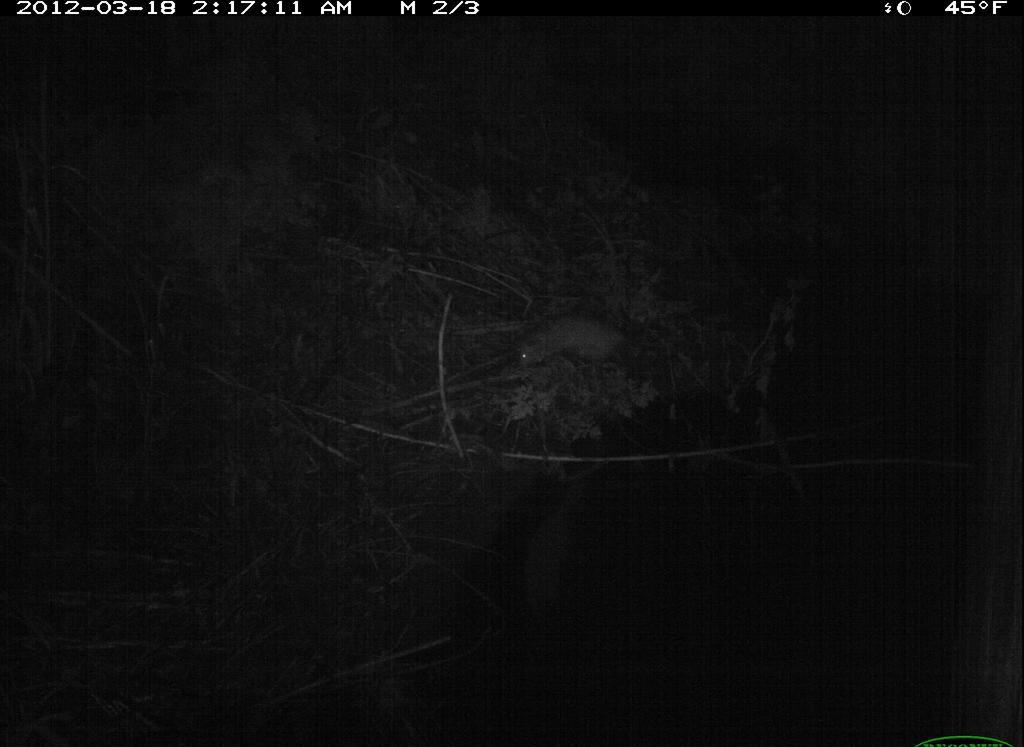opossum: (502, 299, 680, 392)
